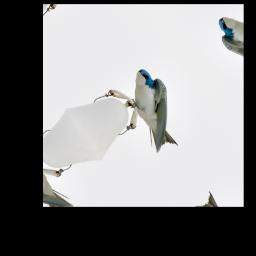Swallow: (110, 63, 198, 160)
